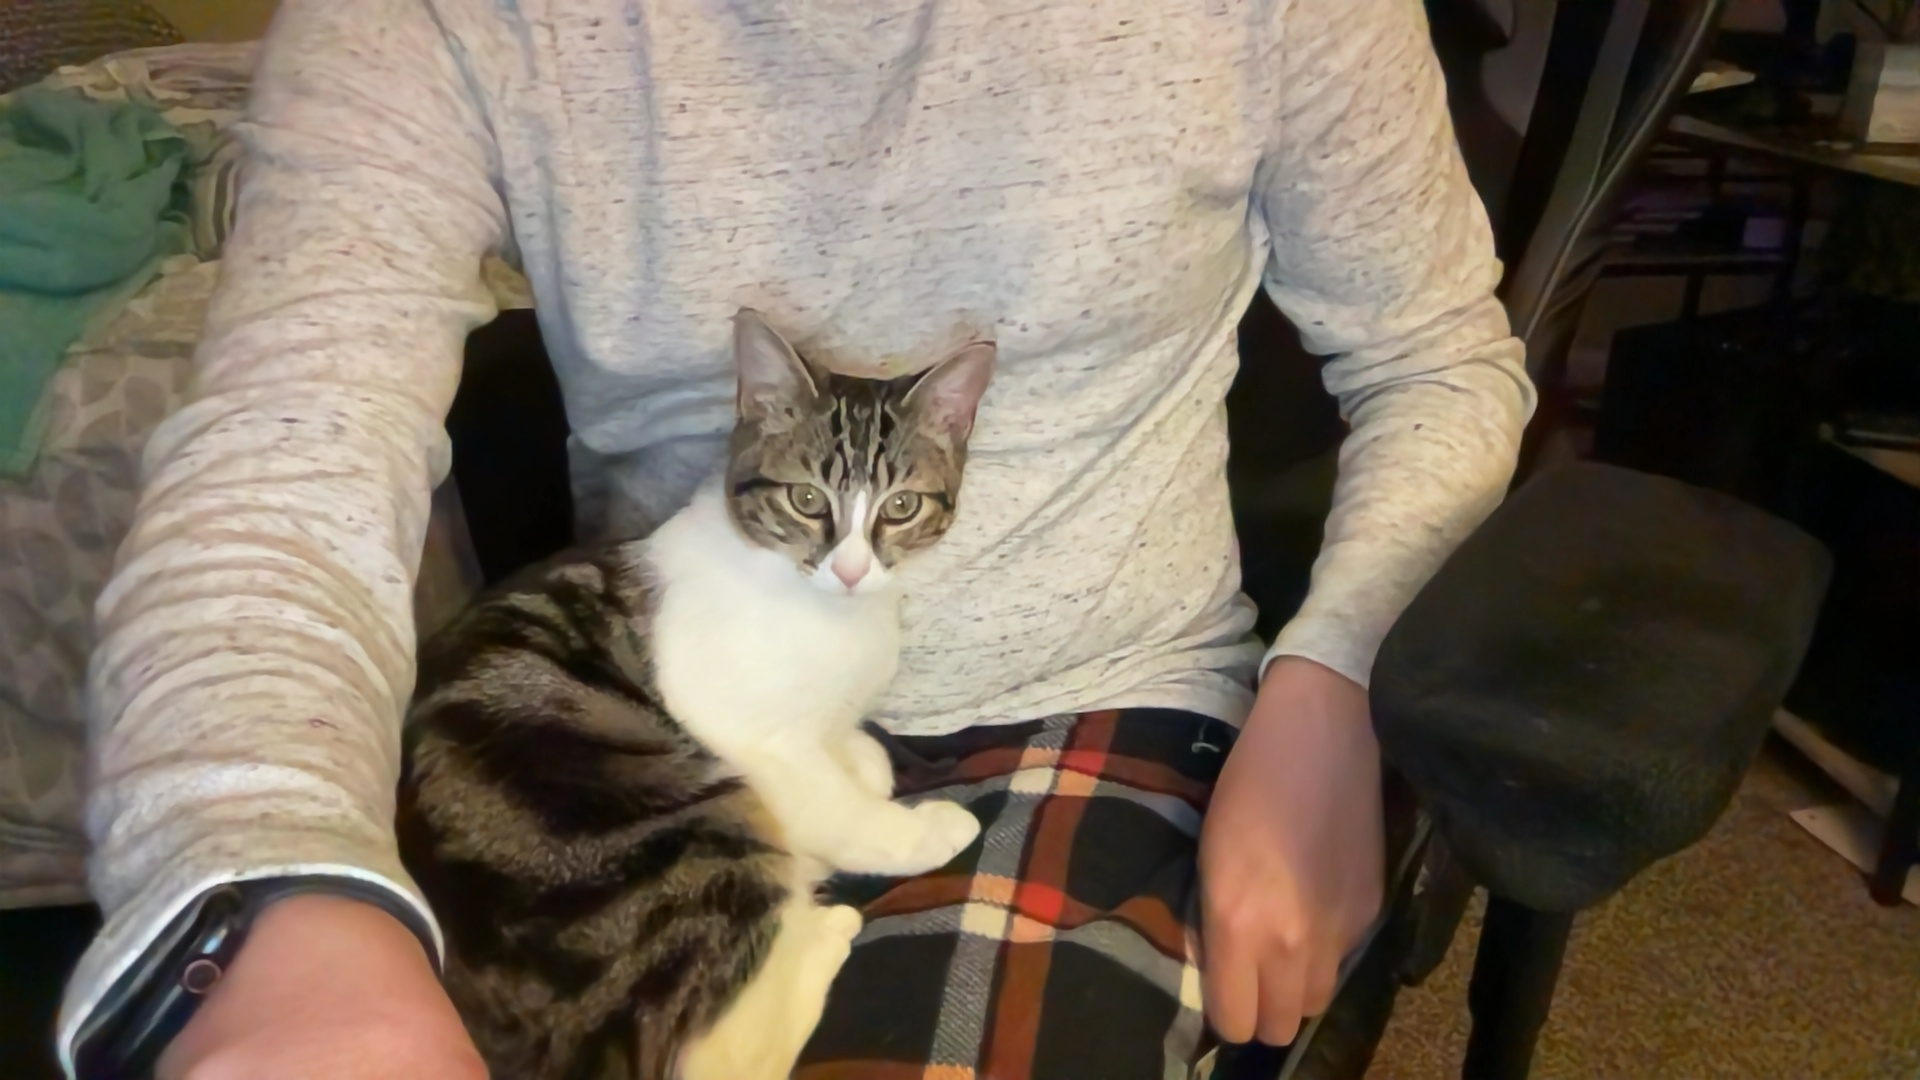cat: (369, 306, 1005, 1080)
